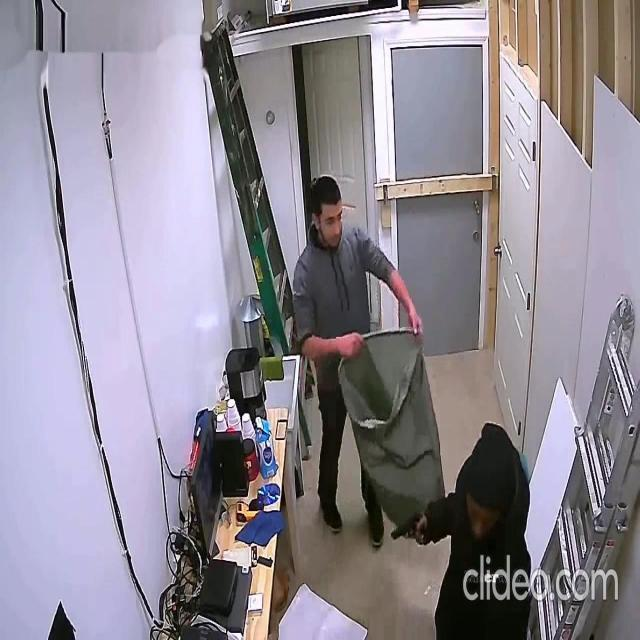pistol: (390, 512, 422, 542)
